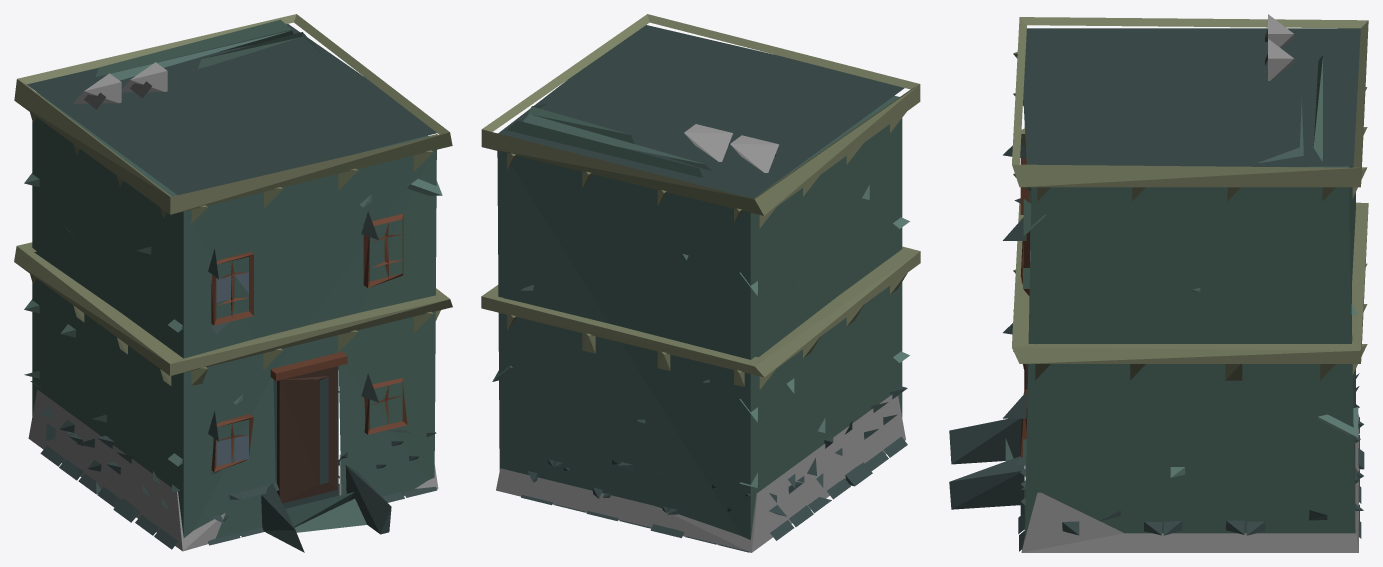
File: 2Story_lod.glb
3 views of the same model, side by side, from view 1: azimuth 30°, elevation 25°; view 2: azimuth 150°, elevation 25°; view 3: azimuth 270°, elevation 25° (orthographic). The views are drawn at different scales.
Visible parts, largest first — view 1: 2Story_Mat; view 2: 2Story_Mat; view 3: 2Story_Mat.
Part boxes in pixels (<box>): 2Story_Mat: <box>14,14,452,552</box>; 2Story_Mat: <box>481,14,920,552</box>; 2Story_Mat: <box>949,14,1368,552</box>.
Bounding box in the file's own units: 2.16 × 2.73 × 2.53.
